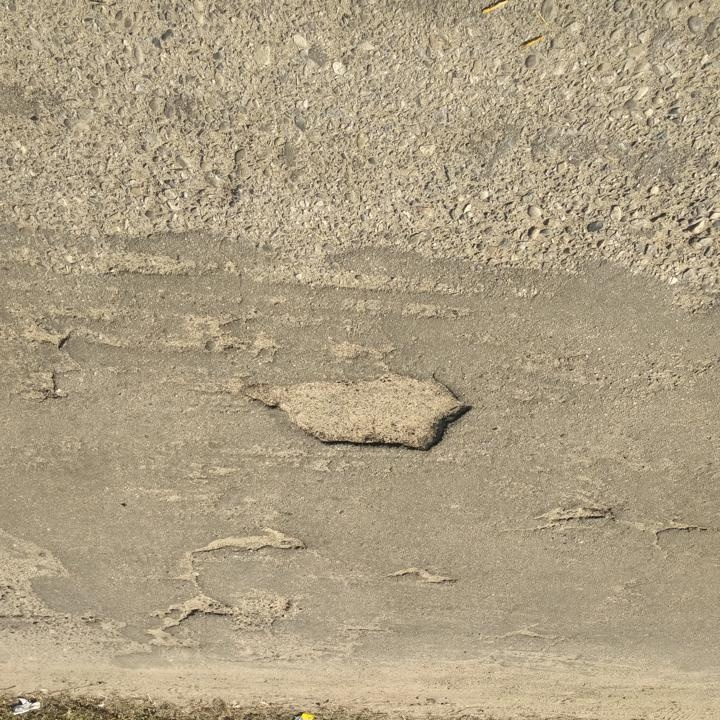pothole: (243, 371, 476, 457), (149, 592, 236, 633), (186, 535, 311, 554)
